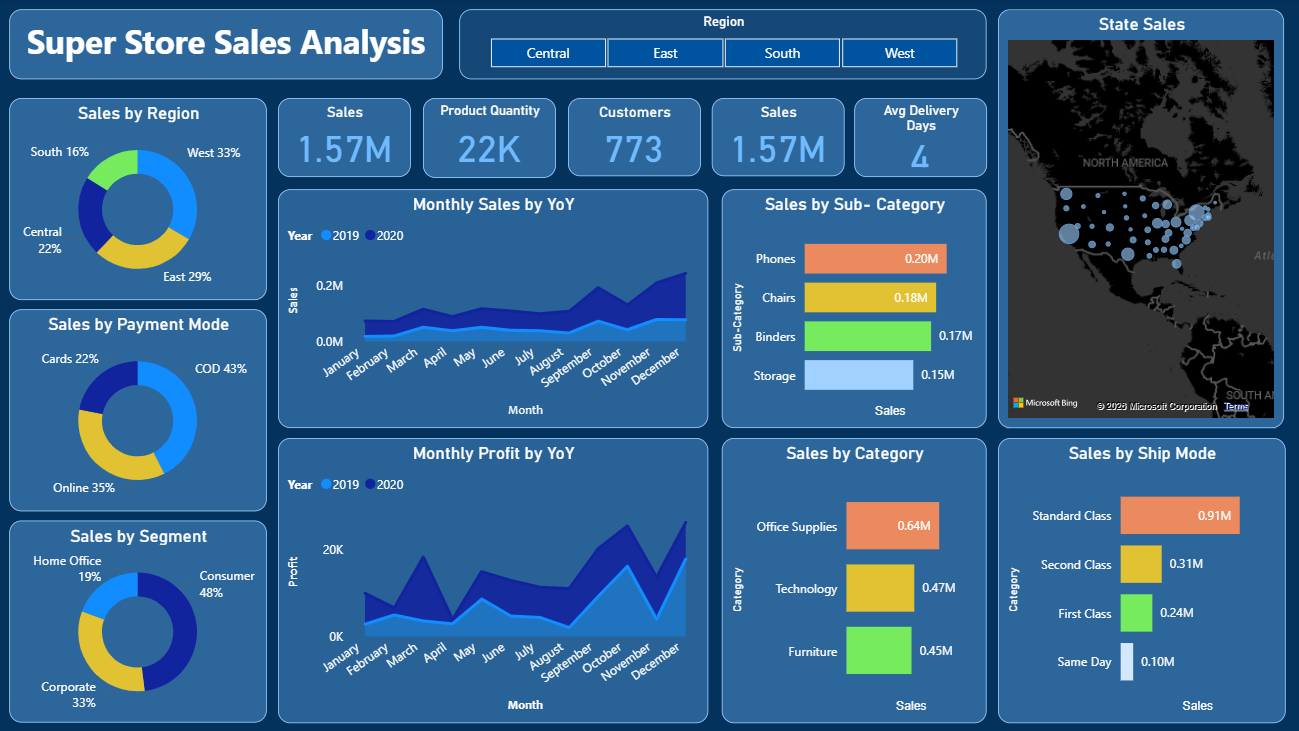

Layout of this report page (visuals, bound fields, positions):
{"tool":"powerbi","page":{"name":"Page 1","canvas":[1280,720],"ordinal":0},"visuals":[{"type":"barChart","title":"Sales by Category","fields":{"Category":["Sheet1.Category"],"Y":["Sum(Sheet1.Sales)"]},"box":[710.4,431.9,260.1,279.8],"z":0},{"type":"barChart","title":"Sales by Sub- Category","fields":{"Category":["Sheet1.Sub-Category"],"Y":["Sum(Sheet1.Sales)"]},"box":[710.4,187.7,260.1,234.4],"z":1000},{"type":"barChart","title":"Sales by Ship Mode","fields":{"Category":["Sheet1.Ship Mode"],"Y":["Sum(Sheet1.Sales)"]},"box":[981.6,431.9,282.2,279.8],"z":2000},{"type":"map","title":"State Sales ","fields":{"Category":["Sheet1.State"],"Size":["Sum(Sheet1.Sales)"]},"box":[981.6,11,281,411],"z":3000},{"type":"stackedAreaChart","title":"Monthly Sales by YoY","fields":{"Y":["Sum(Sheet1.Sales)"],"Category":["Sheet1.Order Date.Variation.Date Hierarchy.Month"],"Series":["Sheet1.Order Date.Variation.Date Hierarchy.Year"]},"box":[274.8,187.7,422.1,234.4],"z":4000},{"type":"stackedAreaChart","title":"Monthly Profit by YoY","fields":{"Category":["Sheet1.Order Date.Variation.Date Hierarchy.Month"],"Series":["Sheet1.Order Date.Variation.Date Hierarchy.Year"],"Y":["Sum(Sheet1.Profit)"]},"box":[274.8,431.9,422.1,279.8],"z":5000},{"type":"donutChart","title":"Sales by Segment","fields":{"Category":["Sheet1.Segment"],"Y":["Sum(Sheet1.Sales)"]},"box":[11,512.9,252.8,198.8],"z":6000},{"type":"donutChart","title":"Sales by Payment Mode","fields":{"Y":["Sum(Sheet1.Sales)"],"Category":["Sheet1.Payment Mode"]},"box":[11,305.5,252.8,198.8],"z":7000},{"type":"donutChart","title":"Sales by Region","fields":{"Category":["Sheet1.Region"],"Y":["Sum(Sheet1.Sales)"]},"box":[11,98.2,252.8,198.8],"z":8000},{"type":"slicer","title":"Region","fields":{"Values":["Sheet1.Region"]},"box":[452.8,11,517.8,68.7],"z":9000},{"type":"card","title":"Sales","fields":{"Values":["Sum(Sheet1.Sales)"]},"box":[274.8,98.2,130.1,77.3],"z":10000},{"type":"card","title":"Product Quantity","fields":{"Values":["Sum(Sheet1.Quantity)"]},"box":[417.5,98,130,78],"z":11000},{"type":"card","title":"Avg Delivery Days","fields":{"Values":["Avg(Sheet1.AvgDelivery)"]},"box":[840.7,97.9,130,77.9],"z":12000},{"type":"card","title":"Sales","fields":{"Values":["Sum(Sheet1.Sales)"]},"box":[701,98,130,77],"z":13000},{"type":"card","title":"Customers","fields":{"Values":["Count(Sheet1.Customer ID)"]},"box":[559,98,130,77],"z":14000},{"type":"textbox","box":[11,11,425.8,68.7],"z":15000}]}

Visuals, with their boxes in screenshot pixels (x1, y1, x2, y2), scaled from the page's 1280x720 canvas onto the 1299x731 screenshot:
"Sales by Category" barChart: pyautogui.locateOnScreen(721, 438, 985, 723)
"Sales by Sub- Category" barChart: pyautogui.locateOnScreen(721, 191, 985, 429)
"Sales by Ship Mode" barChart: pyautogui.locateOnScreen(996, 438, 1283, 723)
"State Sales " map: pyautogui.locateOnScreen(996, 11, 1281, 428)
"Monthly Sales by YoY" stackedAreaChart: pyautogui.locateOnScreen(279, 191, 707, 429)
"Monthly Profit by YoY" stackedAreaChart: pyautogui.locateOnScreen(279, 438, 707, 723)
"Sales by Segment" donutChart: pyautogui.locateOnScreen(11, 521, 268, 723)
"Sales by Payment Mode" donutChart: pyautogui.locateOnScreen(11, 310, 268, 512)
"Sales by Region" donutChart: pyautogui.locateOnScreen(11, 100, 268, 302)
"Region" slicer: pyautogui.locateOnScreen(460, 11, 985, 81)
"Sales" card: pyautogui.locateOnScreen(279, 100, 411, 178)
"Product Quantity" card: pyautogui.locateOnScreen(424, 99, 556, 179)
"Avg Delivery Days" card: pyautogui.locateOnScreen(853, 99, 985, 178)
"Sales" card: pyautogui.locateOnScreen(711, 99, 843, 178)
"Customers" card: pyautogui.locateOnScreen(567, 99, 699, 178)
textbox: pyautogui.locateOnScreen(11, 11, 443, 81)
